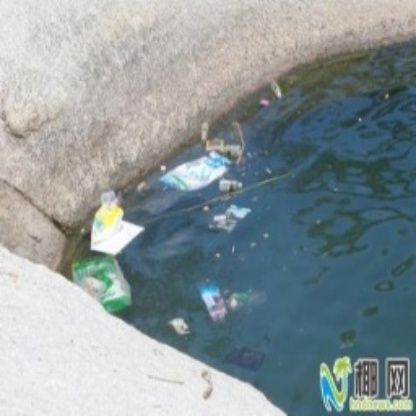plastic-bag: (89, 197, 149, 258), (160, 151, 232, 198)
